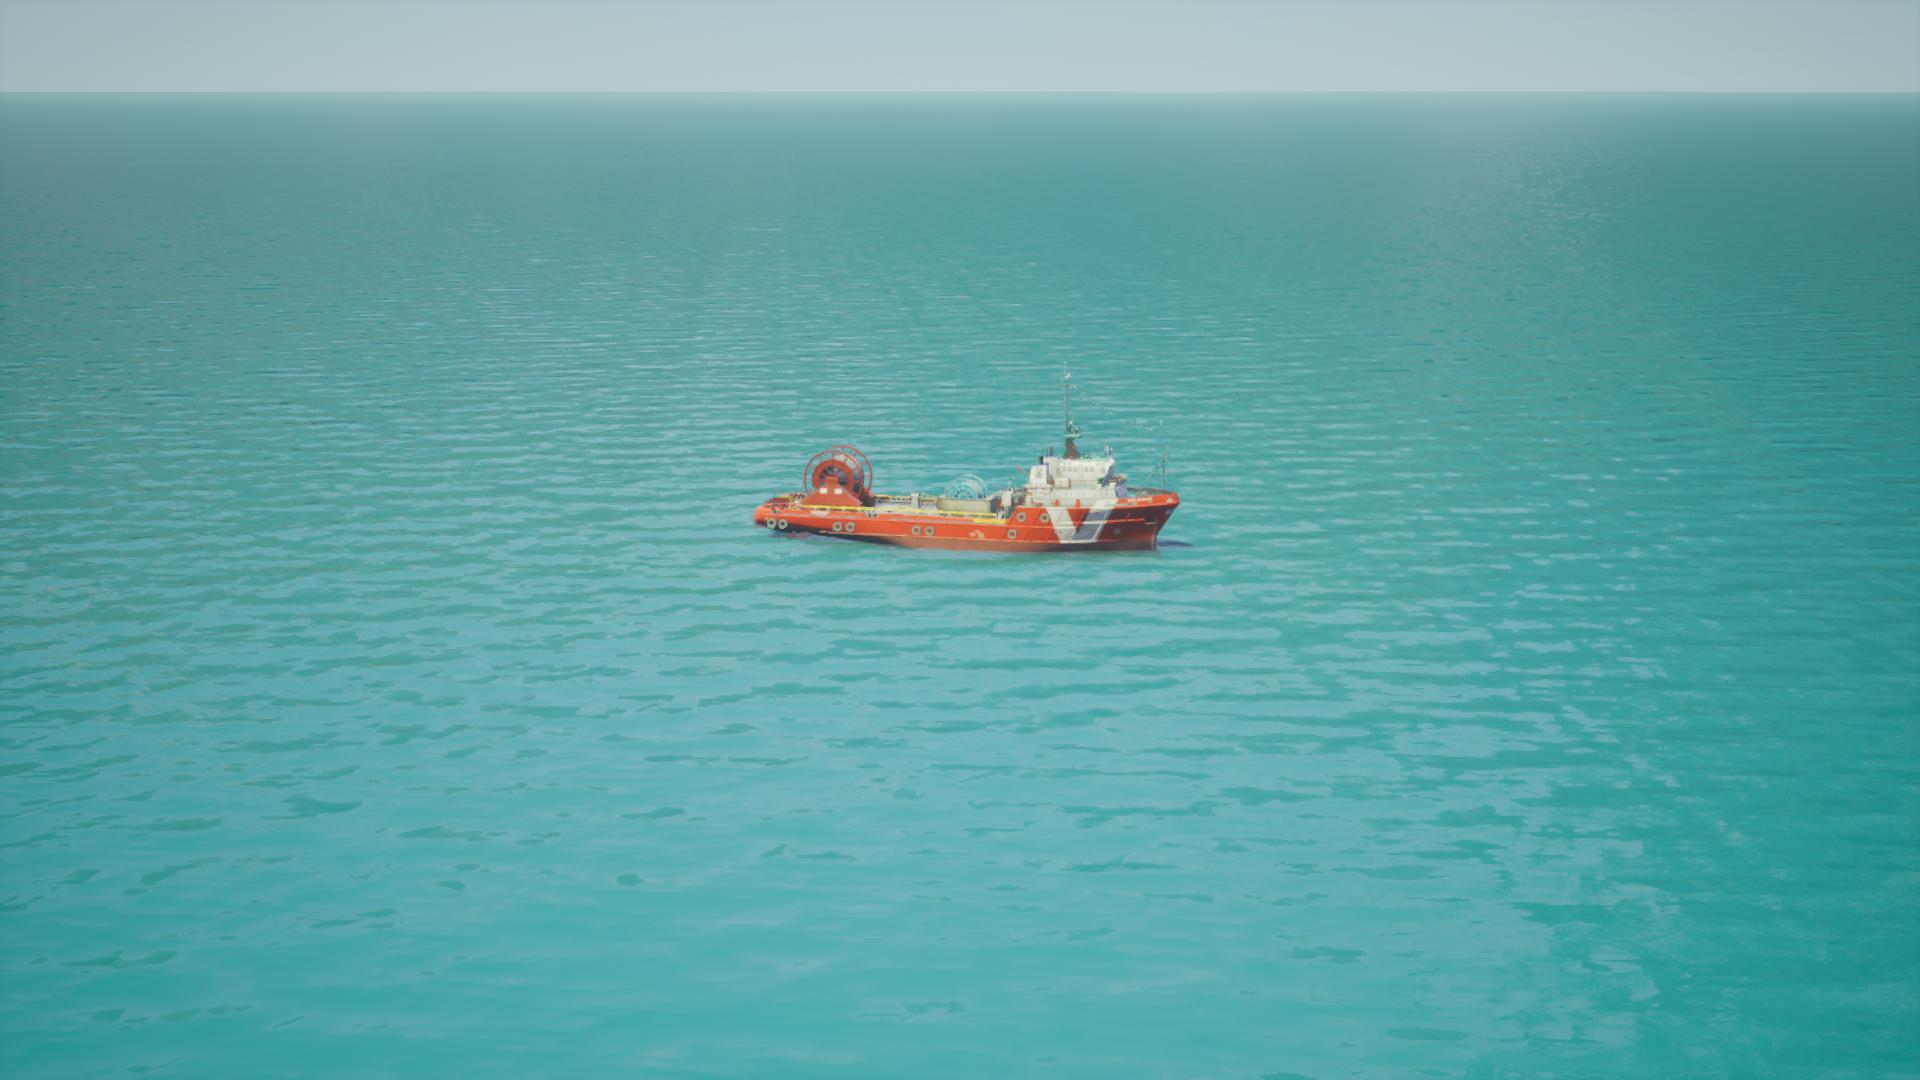Tug Boat: (741, 423, 1195, 562)
